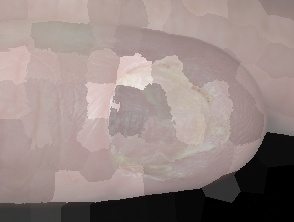Nail_psoriasis: (71, 32, 259, 215)
